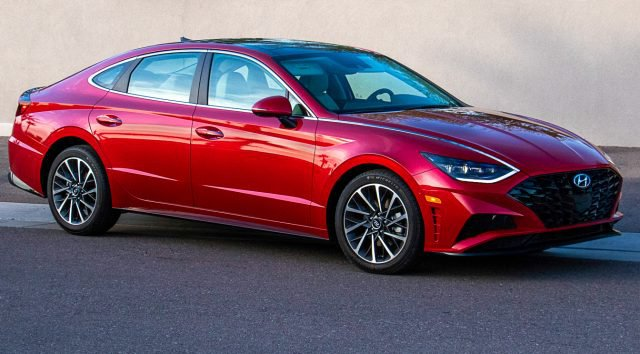car: (10, 35, 622, 276)
